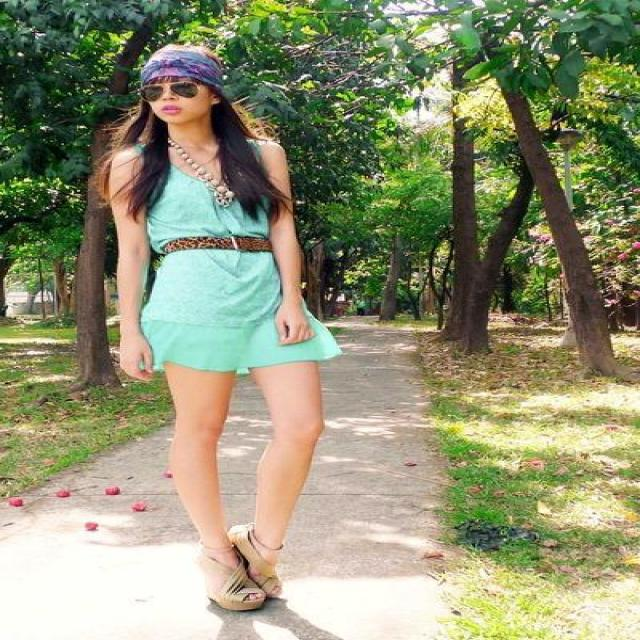dress: (141, 168, 325, 370)
hat: (134, 39, 229, 82)
shoe: (206, 573, 286, 626)
sunglass: (134, 64, 186, 106)
